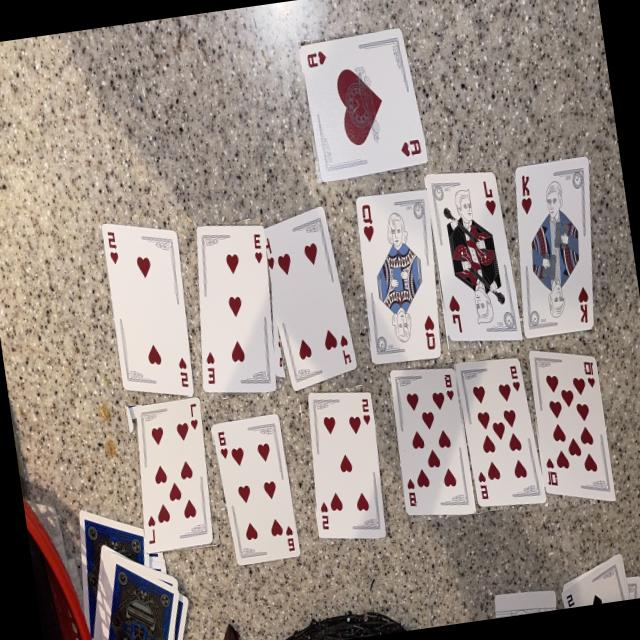10 of hearts: (526, 350, 614, 502)
2 of hearts: (100, 224, 192, 397)
3 of hearts: (195, 225, 275, 394)
4 of hearts: (256, 208, 355, 392)
5 of hearts: (306, 392, 384, 540)
6 of hearts: (211, 414, 299, 566)
7 of hearts: (136, 398, 212, 554)
8 of hearts: (389, 367, 474, 518)
9 of hearts: (454, 358, 544, 508)
Ace of hearts: (299, 28, 426, 182)
Jack of hearts: (424, 171, 521, 342)
King of hearts: (514, 157, 593, 338)
Queen of hearts: (355, 189, 440, 364)
